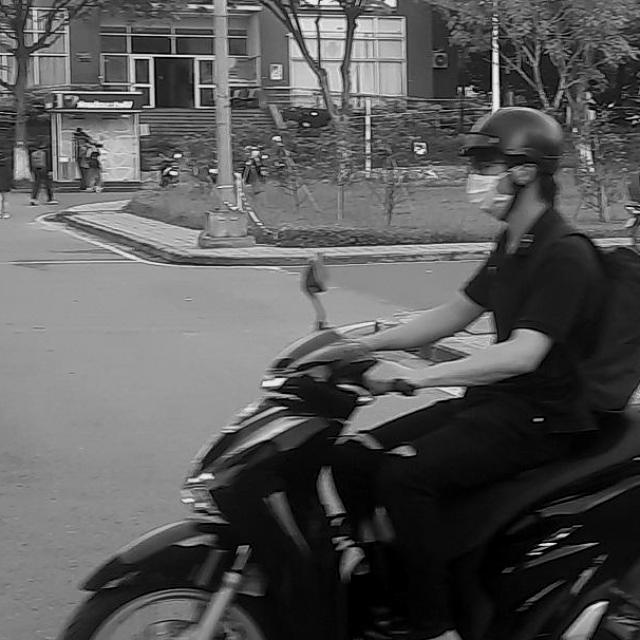Helmet: (455, 104, 572, 219)
